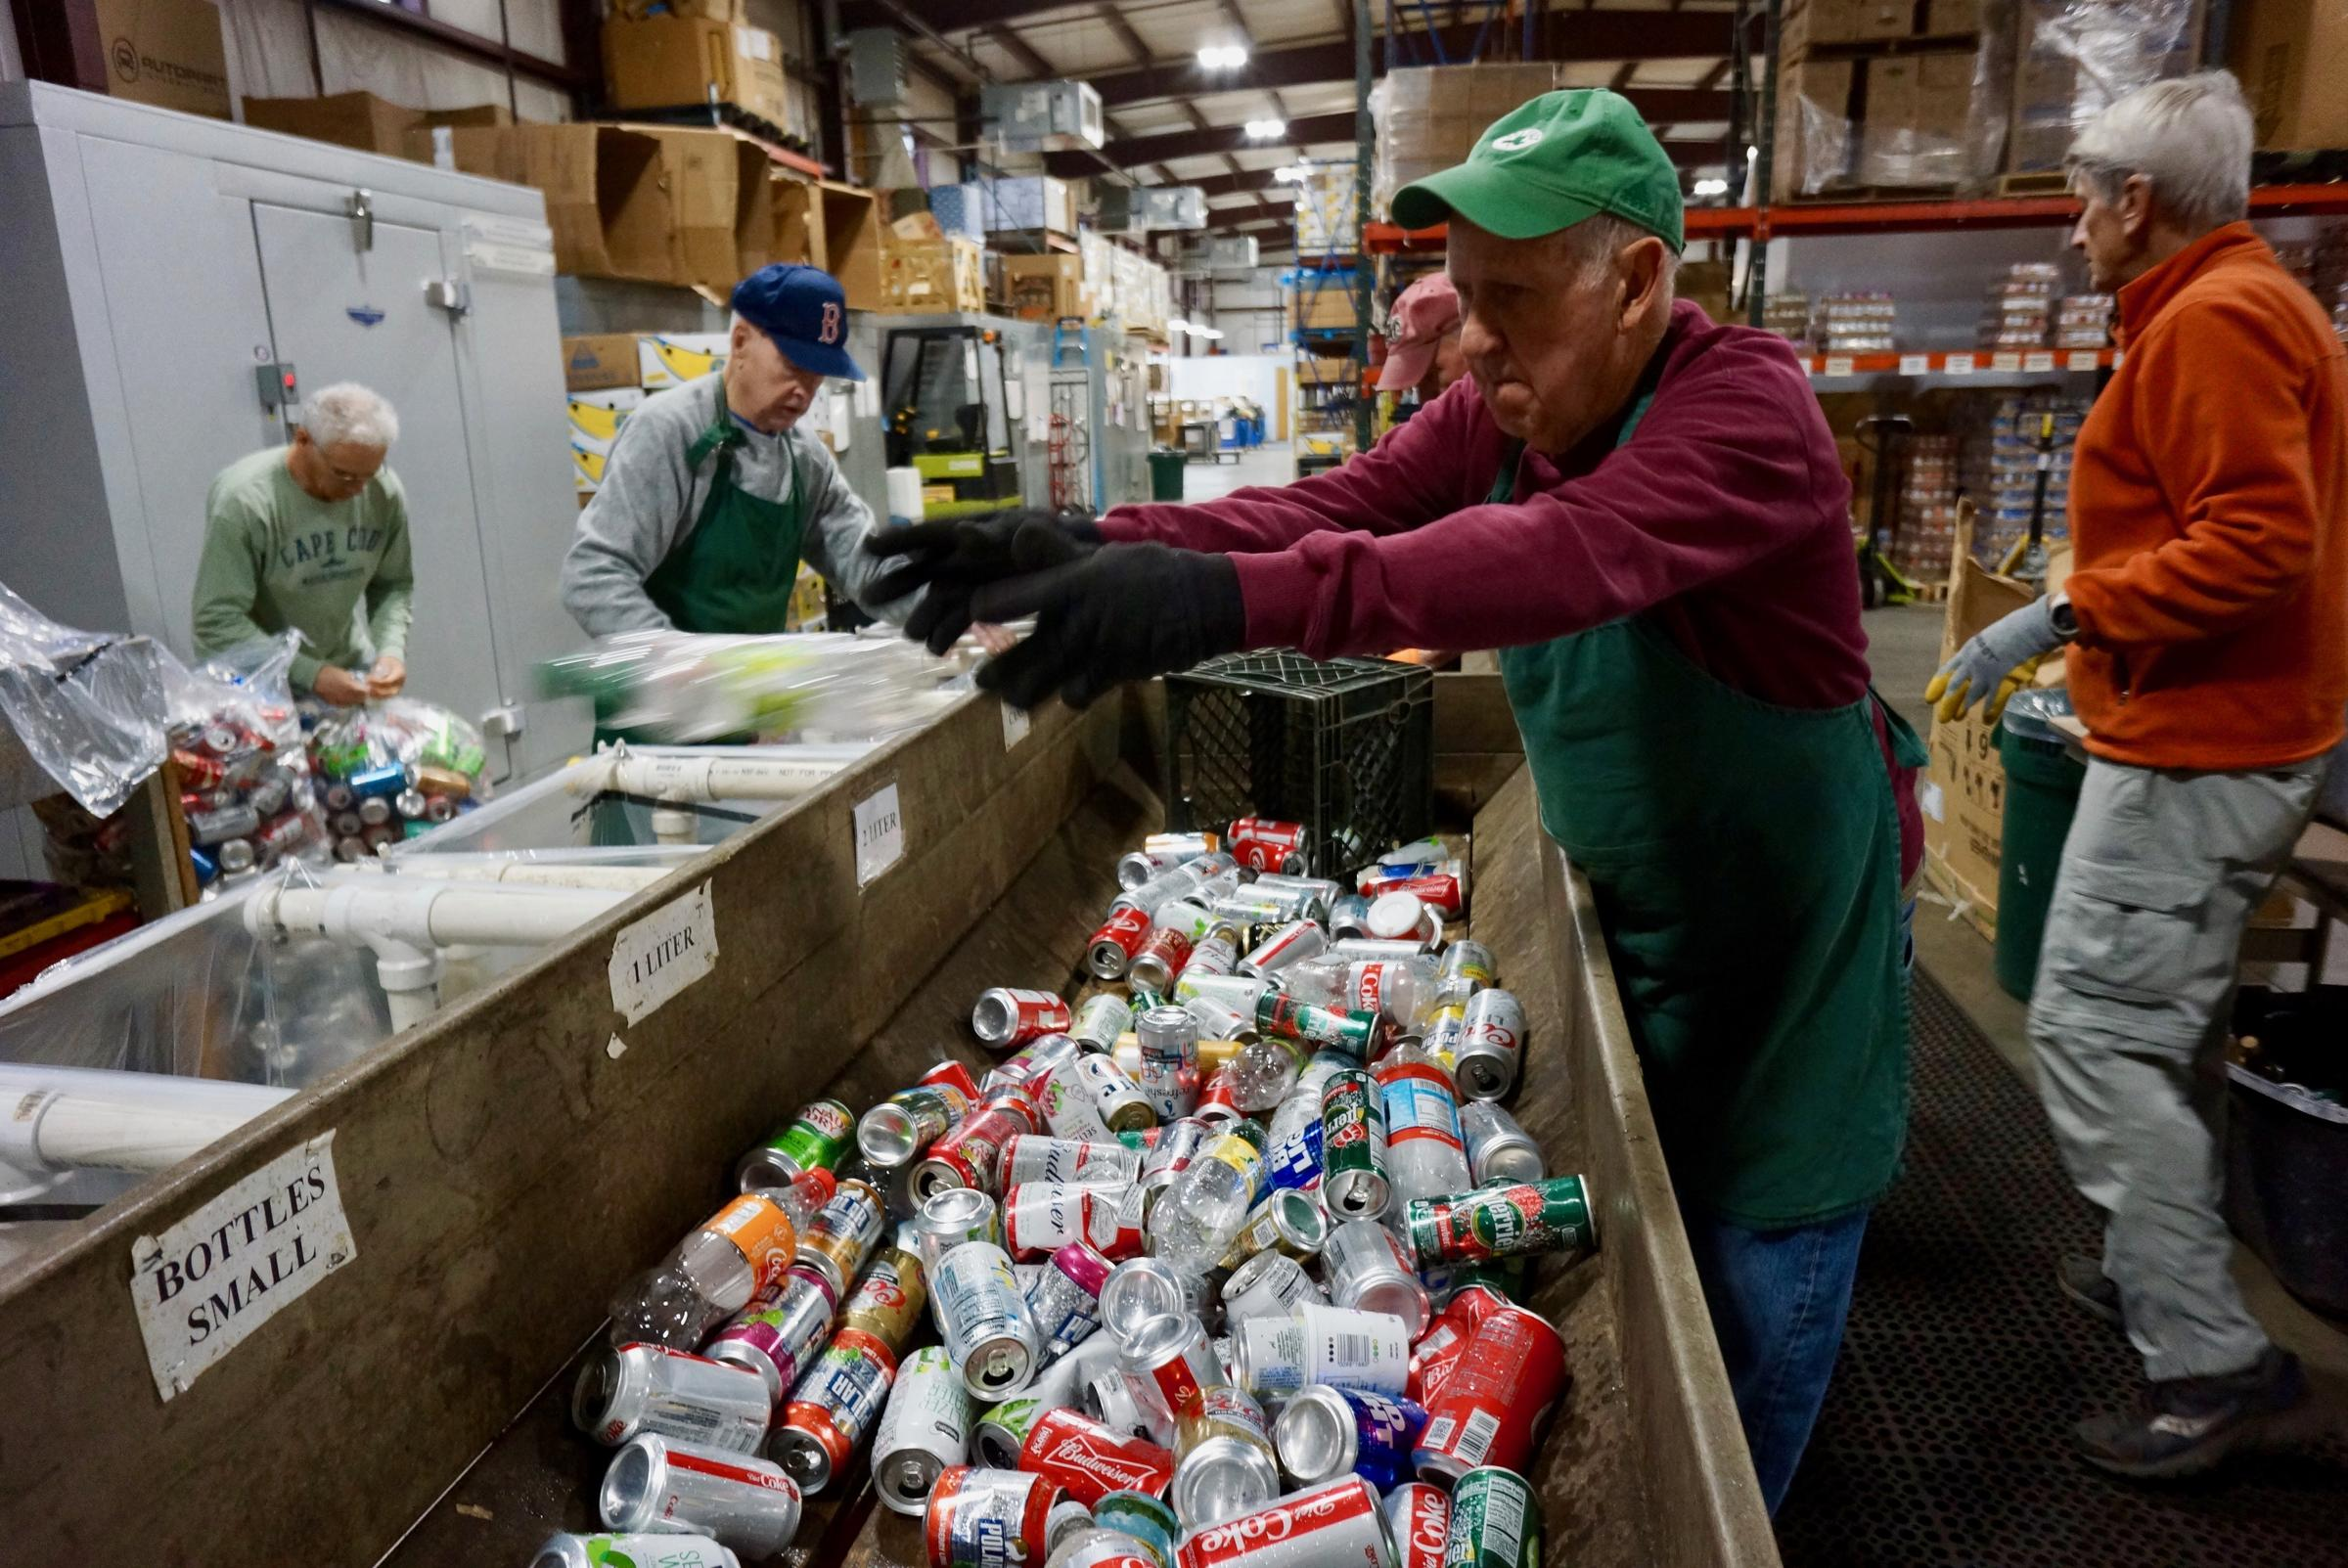Can: (724, 763, 1660, 1568), (129, 682, 509, 871), (899, 779, 959, 836)
